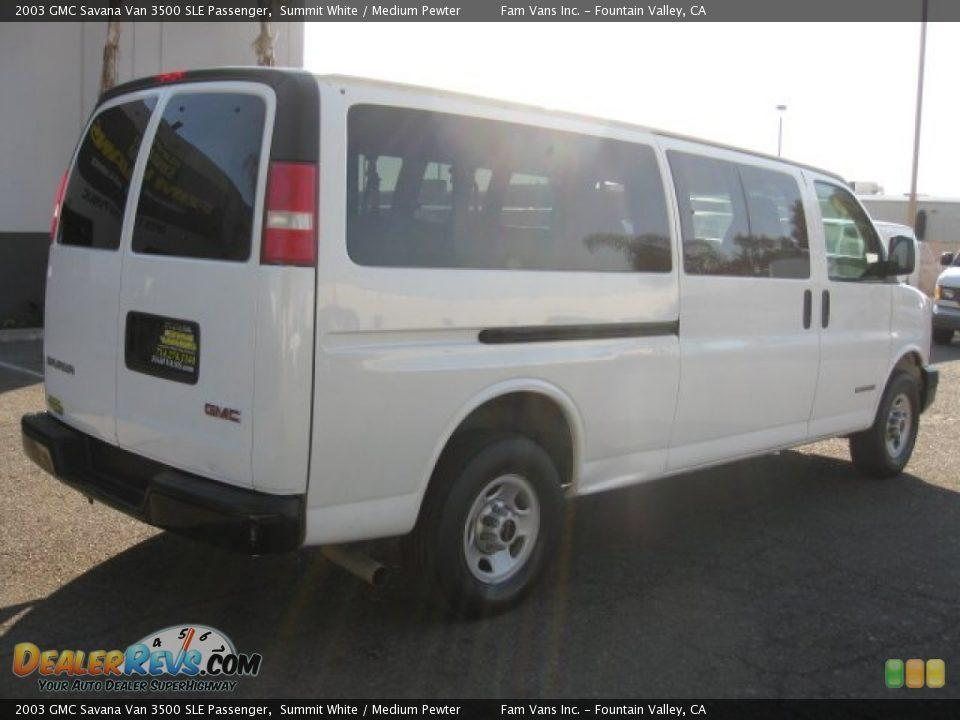GMC: (190, 396, 256, 428)
